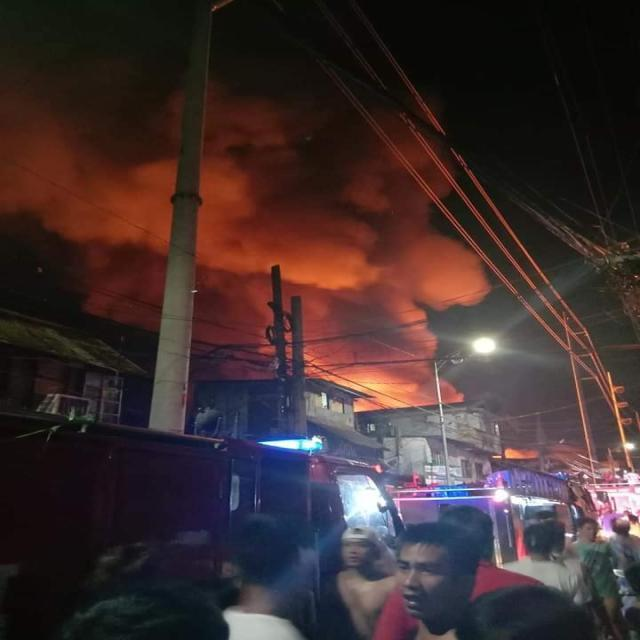Smoke: (213, 51, 492, 314), (2, 0, 175, 226), (297, 304, 462, 403)
